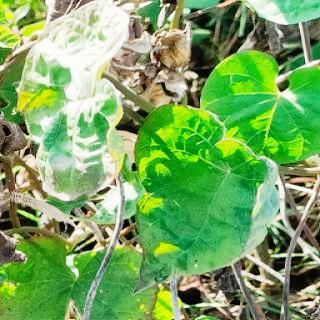curl: (142, 88, 288, 290), (11, 8, 136, 199)
